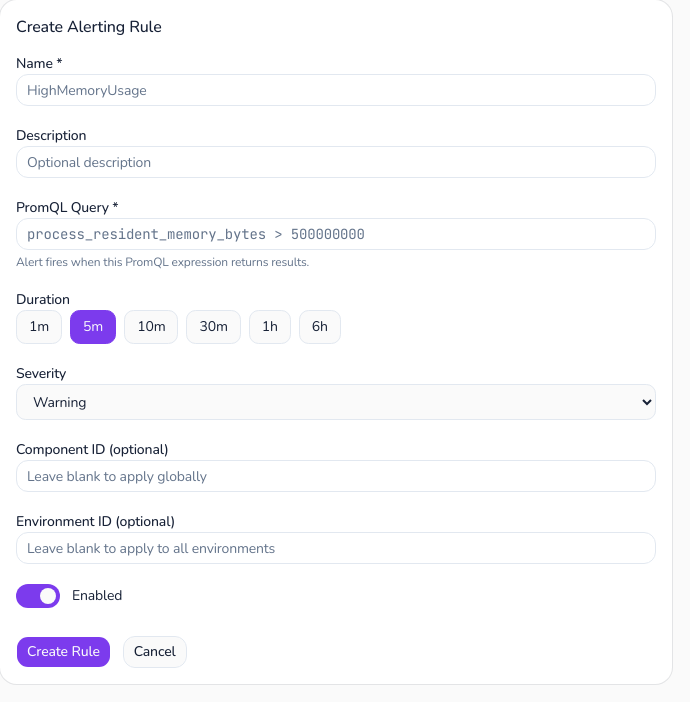
it: AlertingRuleFormClient › toggles the enabled state when the toggle button is clicked
Expected: the text "Enabled" is shown, [72, 586, 122, 606]
Click the button named "Disable rule". click: coordinates (38, 596)
box: [16, 584, 60, 608]
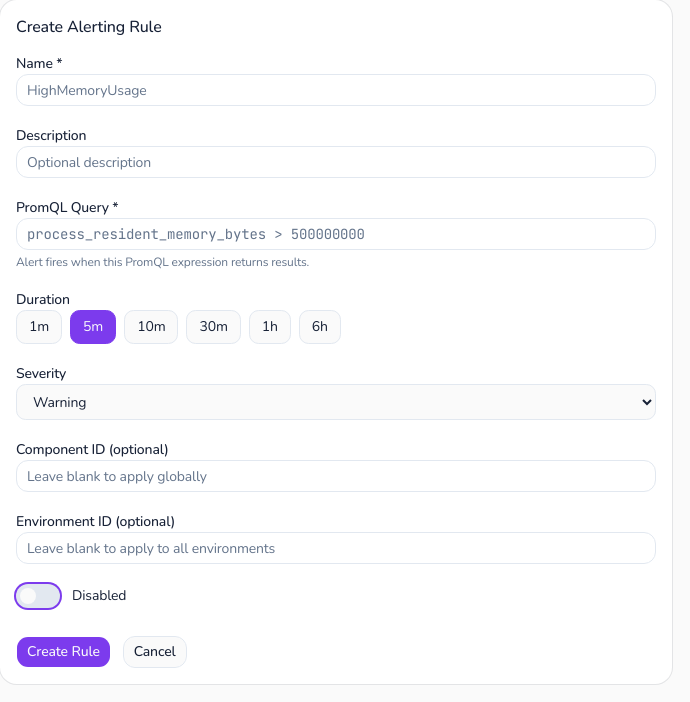
Result: the text "Disabled" is shown at [72, 586, 126, 606]
